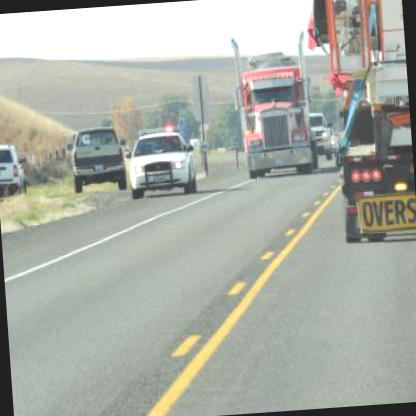truck: (233, 56, 323, 186)
